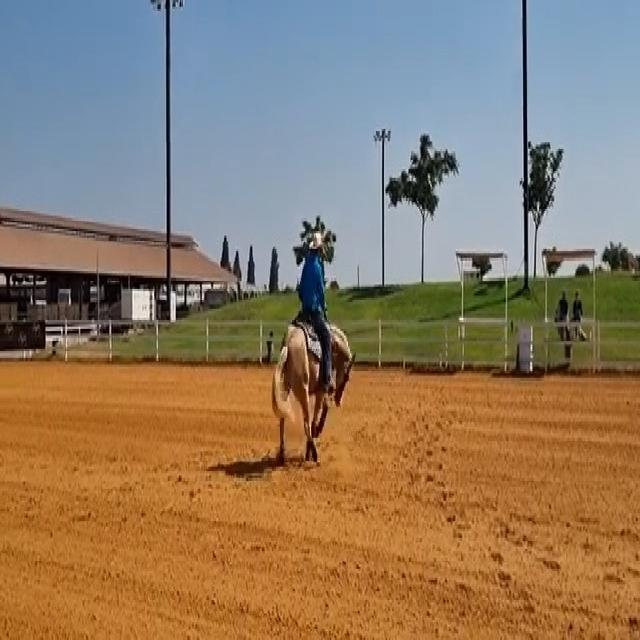horse: (270, 313, 354, 467)
